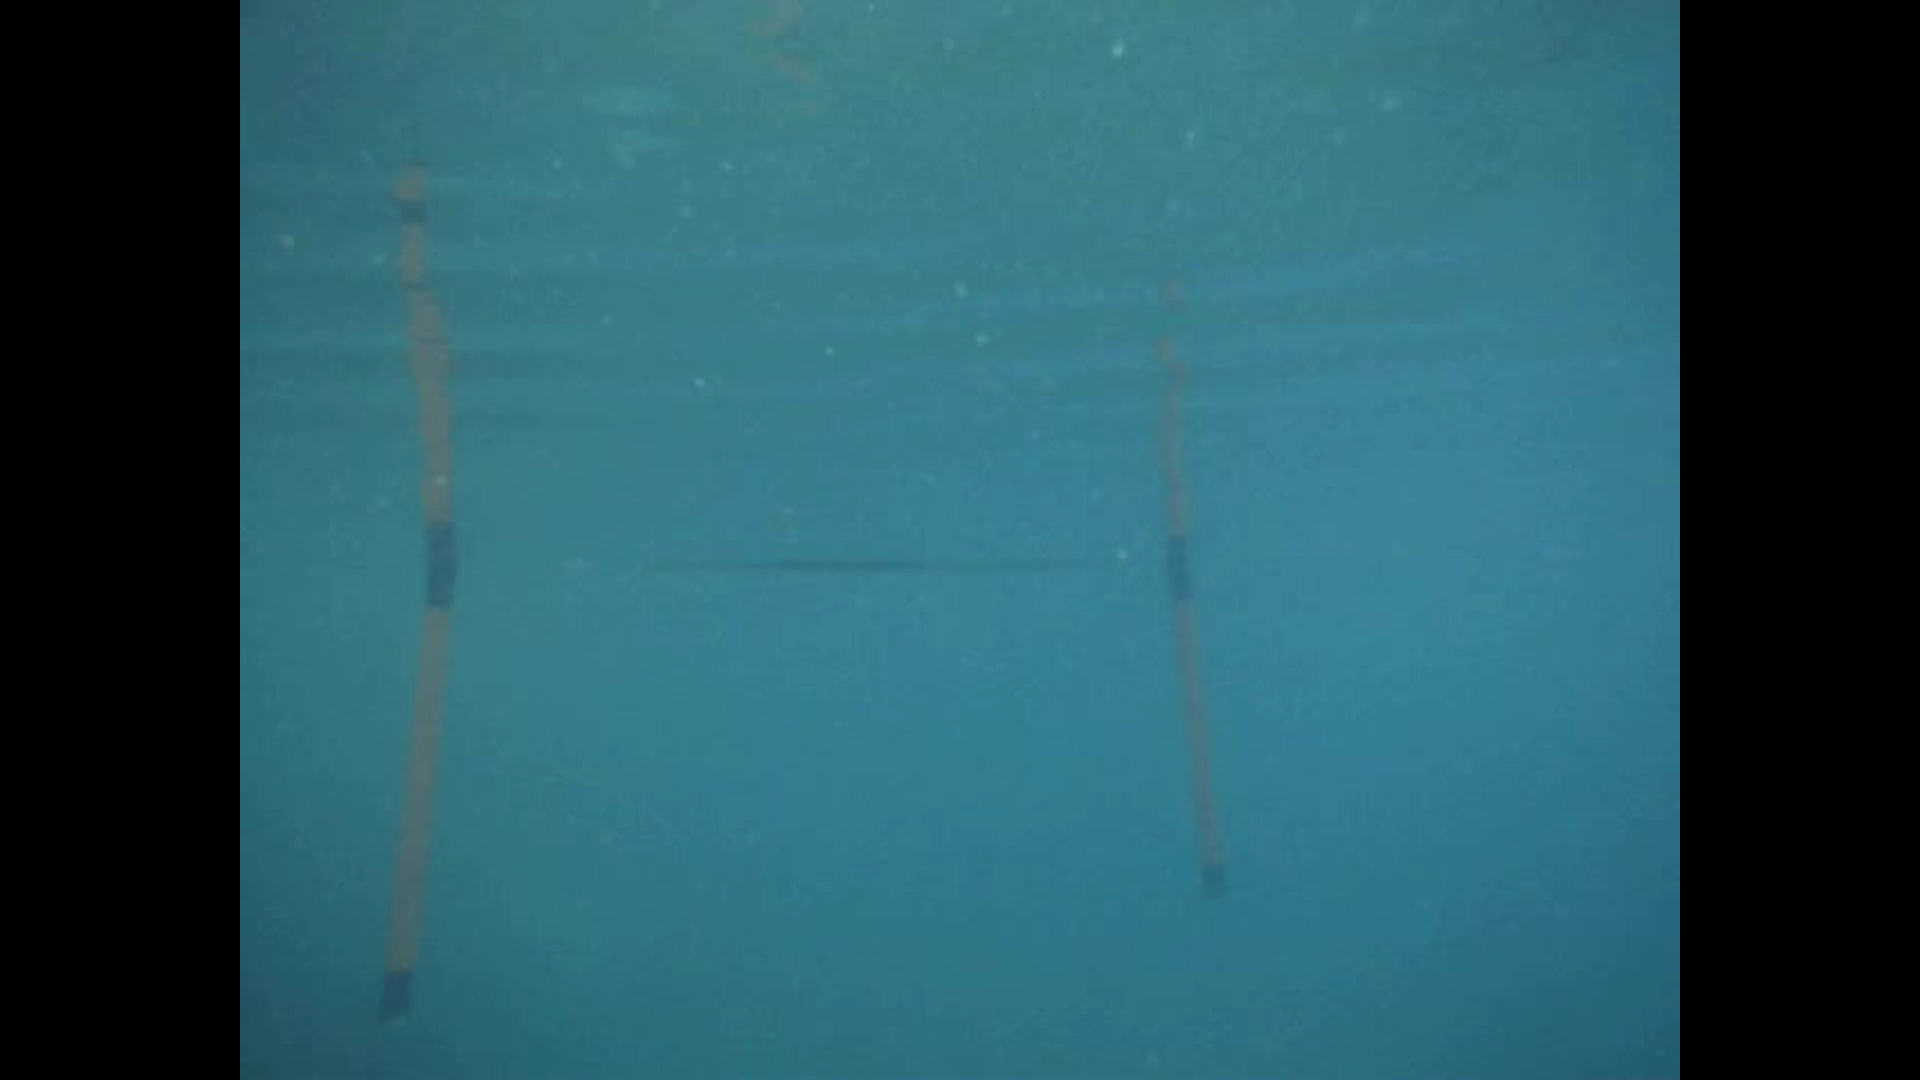gate: (369, 539, 1226, 1034)
